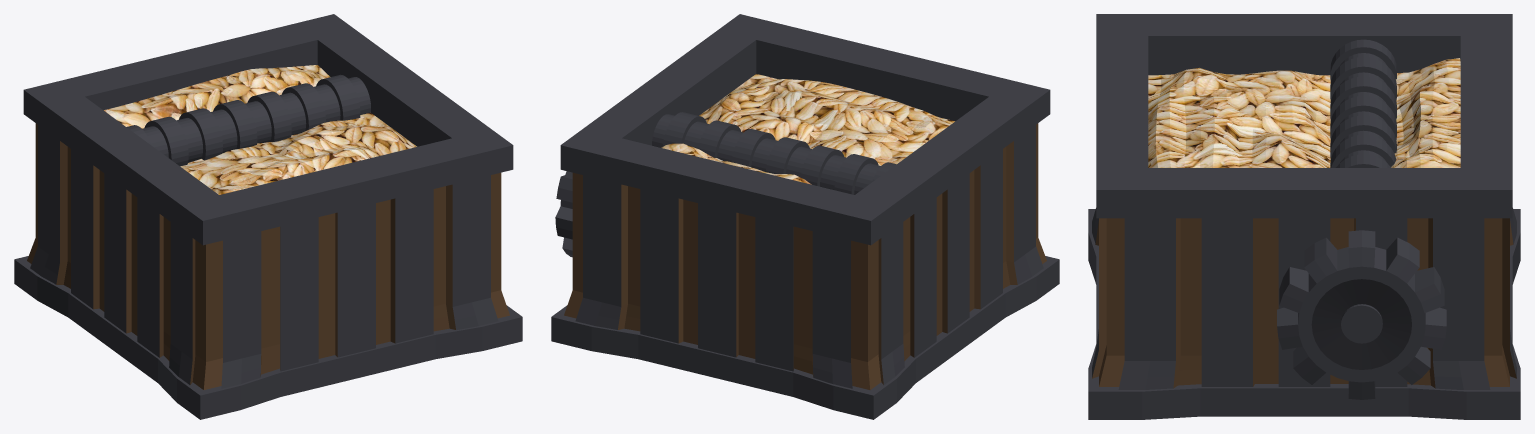
The model's file is MaltingMachine.fbx.
3 views of the same model, side by side, from view 1: azimuth 30°, elevation 25°; view 2: azimuth 150°, elevation 25°; view 3: azimuth 270°, elevation 25° (orthographic). The views are drawn at different scales.
Parts seen in each view (by area): view 1: Cube, Cube.003, Cube.002, Cube.001, Cylinder; view 2: Cube, Cube.003, Cube.002, Cube.001, Cylinder, Cylinder.001; view 3: Cube, Cube.003, Cube.001, Cube.002, Cylinder.001, Cylinder, Cylinder.002.
Boxes of the visible parts, x1,y1,x2,y2 form: Cube: [14, 14, 522, 419]; Cube.003: [30, 125, 498, 388]; Cube.002: [27, 123, 509, 389]; Cube.001: [104, 65, 416, 194]; Cylinder: [126, 74, 370, 166]; Cube: [551, 14, 1059, 419]; Cube.003: [575, 125, 1043, 388]; Cube.002: [564, 123, 1046, 389]; Cube.001: [661, 74, 954, 184]; Cylinder: [652, 112, 896, 194]; Cylinder.001: [555, 171, 572, 257]; Cube: [1088, 14, 1520, 419]; Cube.003: [1092, 208, 1516, 389]; Cube.001: [1148, 58, 1460, 167]; Cube.002: [1092, 218, 1516, 388]; Cylinder.001: [1277, 230, 1446, 399]; Cylinder: [1330, 39, 1396, 167]; Cylinder.002: [1311, 279, 1411, 369].
Bounding box in the file's own units: 410 × 216 × 374.
Materials: 4 (1 with a texture image).
